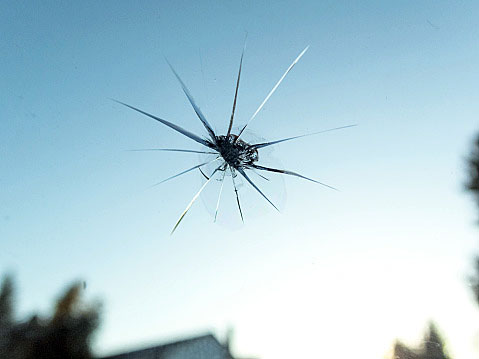bullseye: (97, 33, 371, 237)
